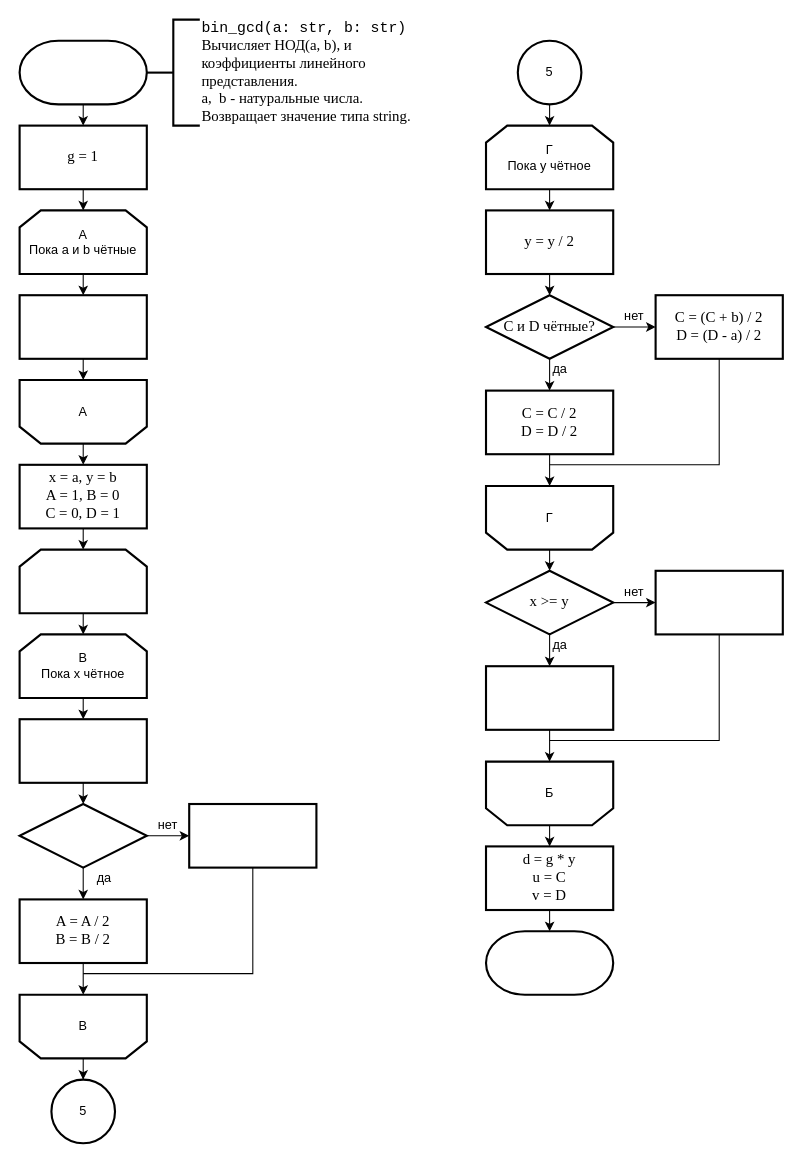
The diagram is 801 pixels wide and 1162 high, and some of its shapes have lost their labels. The shapes that lost their labels are listed below. From the top down, each one's centre as x and y in pixels, then its label:
At [82,72]: "Начало".
At [82,326]: "a = a / 2 b = b / 2 g = 2 * g".
At [82,581]: "Б Пока x != 0".
At [718,602]: "y = y - x C = C - A D = D - B".
At [549,697]: "x = x - y A = A - C B = B - D".
At [82,750]: "x = x / 2".
At [82,835]: "A и B чётные?".
At [252,835]: "A = (A + b) / 2 B = (B - a) / 2".
At [549,962]: "Конец".
